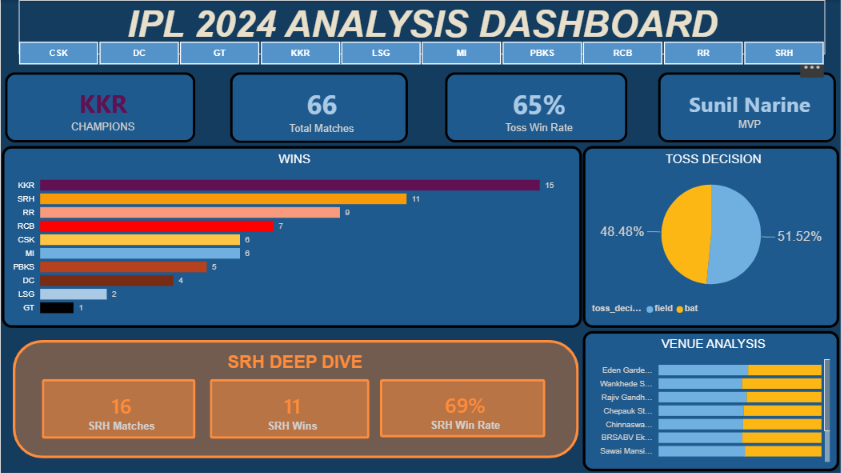

The page's visual inventory and layout, read from the dashboard file:
{"tool":"powerbi","page":{"name":"Page 1","canvas":[1280,720],"ordinal":0},"visuals":[{"type":"cardVisual","fields":{"Data":["Matches.Total Matches"]},"box":[344.3,104.3,281.4,118.6],"z":0},{"type":"shape","box":[18.6,517.1,861.7,180],"z":0,"group":"g2"},{"type":"cardVisual","fields":{"Data":["Matches.SRH Matches"]},"box":[46.4,559.8,268.4,125.7],"z":0,"group":"g1"},{"type":"cardVisual","fields":{"Data":["Matches.CHAMPIONS"]},"box":[1.4,104.3,300,117.1],"z":1000},{"type":"group","id":"g1","title":"Group 1","box":[46.4,559.8,801.4,125.7],"z":1000,"group":"g2"},{"type":"cardVisual","fields":{"Data":["Matches.SRH Wins"]},"box":[301.6,560.3,277.7,125.7],"z":1000,"group":"g1"},{"type":"barChart","title":"WINS","fields":{"Y":["CountNonNull(Matches.winner)"],"Category":["Matches.winner"]},"box":[1.7,221.7,883.3,276.7],"z":2000},{"type":"textbox","title":"SRH DEEP DIVE","box":[101,535.2,695,33.3],"z":2000,"group":"g2"},{"type":"cardVisual","fields":{"Data":["Matches.SRH Win Rate"]},"box":[560.7,560.1,286.9,124],"z":2000,"group":"g1"},{"type":"pieChart","title":"TOSS DECISION","fields":{"Category":["Matches.toss_decision"],"Y":["CountNonNull(Matches.match_id)"]},"box":[886.7,221.7,390,276.7],"z":3000},{"type":"hundredPercentStackedBarChart","title":"VENUE ANALYSIS","fields":{"Category":["Matches.venue"],"Y":["Avg(Matches.team1_score)","Avg(Matches.team2_score)"]},"box":[886.7,503.3,390,213.3],"z":4000},{"type":"group","id":"g2","title":"Group 2","box":[18.6,517.1,861.7,180],"z":5000},{"type":"cardVisual","fields":{"Data":["Matches.Toss Win Rate"]},"box":[671.4,104.3,288.6,117.1],"z":6000},{"type":"cardVisual","fields":{"Data":["Matches.MVP"]},"box":[995.7,104.3,281.4,117.1],"z":7000},{"type":"textbox","box":[26.7,0,1228.3,81.7],"z":8000},{"type":"slicer","fields":{"Values":["Matches.winner"]},"box":[1.7,56.7,1275,48.3],"z":9000}]}

Visuals, with their boxes in screenshot pixels (x1, y1, x2, y2), scaled from the page's 1280x720 canvas onto the 841x473 screenshot:
cardVisual - Matches.Total Matches: crop(226, 69, 411, 146)
shape: crop(12, 340, 578, 458)
cardVisual - Matches.SRH Matches: crop(30, 368, 207, 450)
cardVisual - Matches.CHAMPIONS: crop(1, 69, 198, 145)
"Group 1" group: crop(30, 368, 557, 450)
cardVisual - Matches.SRH Wins: crop(198, 368, 381, 451)
"WINS" barChart: crop(1, 146, 581, 327)
"SRH DEEP DIVE" textbox: crop(66, 352, 523, 373)
cardVisual - Matches.SRH Win Rate: crop(368, 368, 557, 449)
"TOSS DECISION" pieChart: crop(583, 146, 839, 327)
"VENUE ANALYSIS" hundredPercentStackedBarChart: crop(583, 331, 839, 471)
"Group 2" group: crop(12, 340, 578, 458)
cardVisual - Matches.Toss Win Rate: crop(441, 69, 631, 145)
cardVisual - Matches.MVP: crop(654, 69, 839, 145)
textbox: crop(18, 0, 825, 54)
slicer - Matches.winner: crop(1, 37, 839, 69)
